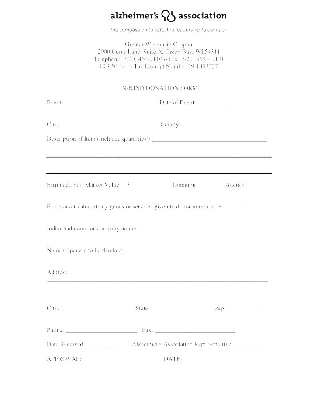textline: (42, 163, 274, 177), (45, 148, 274, 159), (46, 288, 272, 298), (47, 274, 270, 284), (124, 243, 271, 256), (61, 116, 155, 130), (183, 114, 270, 129), (64, 96, 156, 110), (136, 224, 270, 233), (150, 134, 269, 144), (198, 94, 267, 107), (154, 326, 235, 336), (65, 326, 139, 334), (222, 202, 269, 213), (86, 339, 128, 350), (234, 340, 270, 349)
